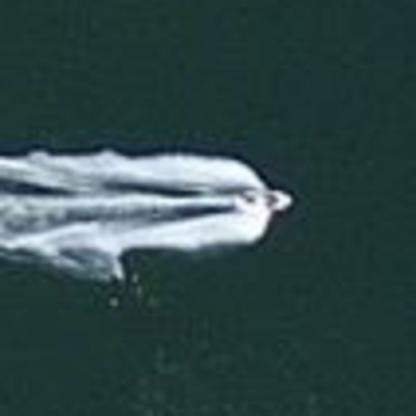ship: (230, 182, 305, 215)
